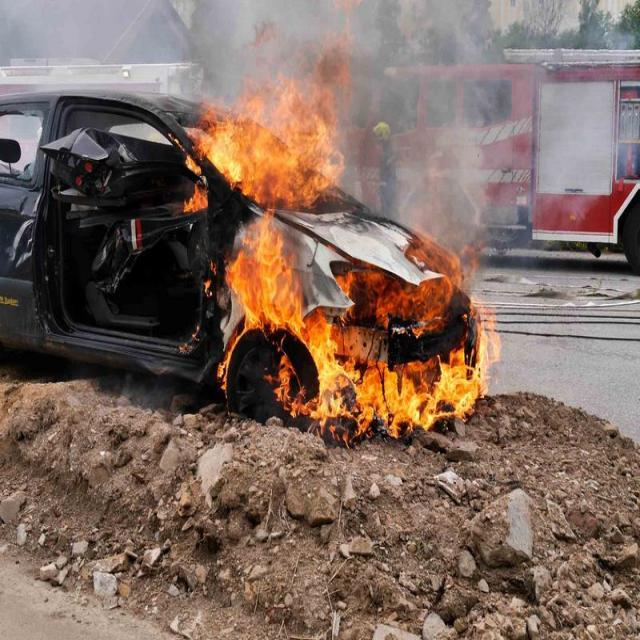Fire: (315, 314, 505, 440), (199, 56, 338, 200), (233, 226, 303, 337)
